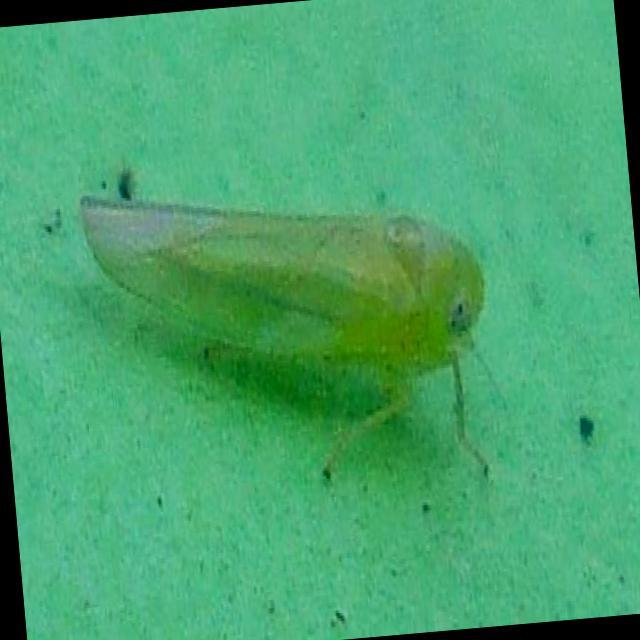green leaf hopper: (80, 166, 487, 479)
